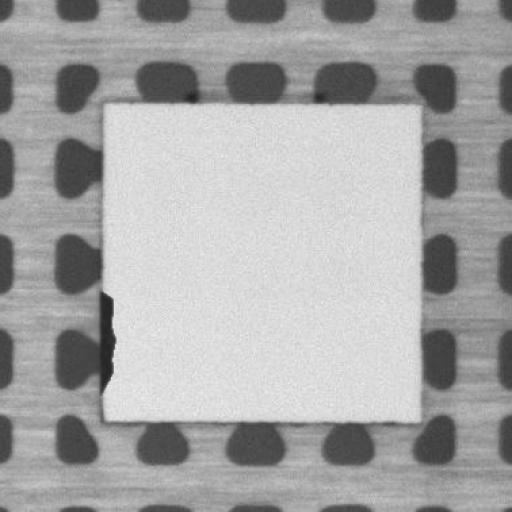DIE_BROKEN: (94, 284, 118, 393)
